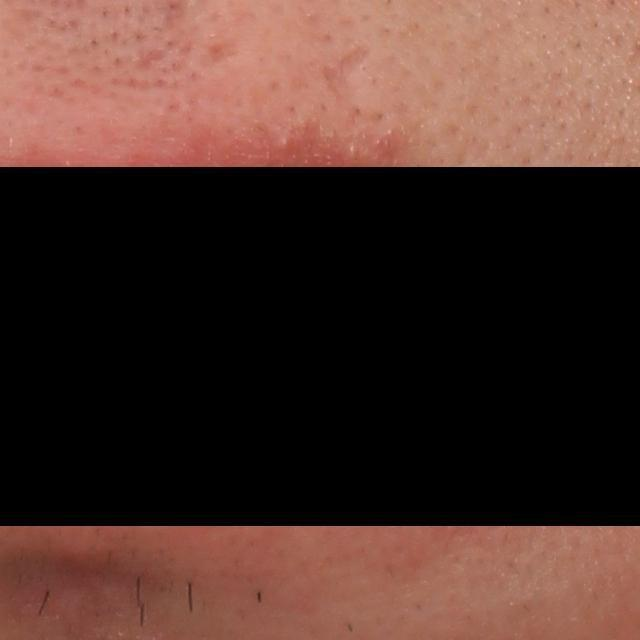atrophic_scar: (312, 41, 385, 111), (200, 43, 244, 65), (132, 45, 168, 68)
